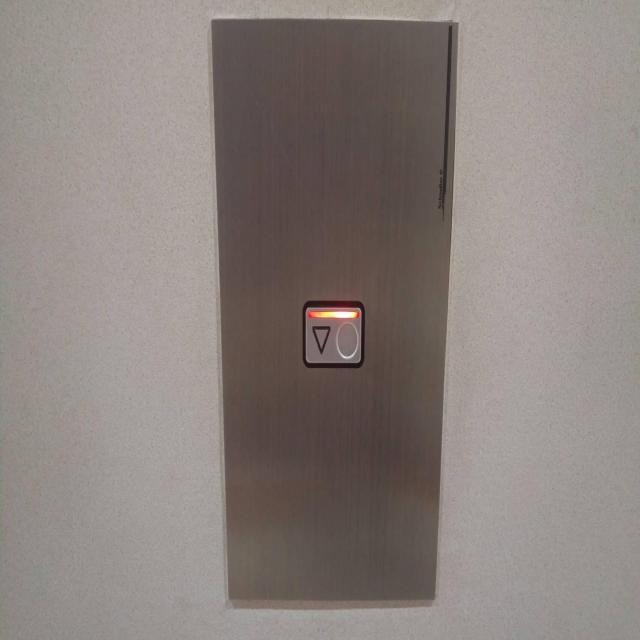down: (302, 294, 365, 372)
